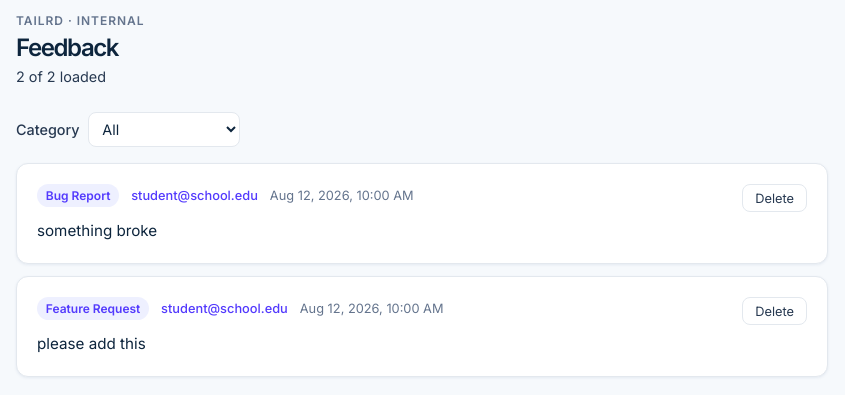
Test case: AdminFeedback › narrows to one category
Expected: the text "please add this" is shown, [37, 334, 146, 353]
Select "Bug Report" in the dropdown labelled "Category" at (164, 130), box [88, 112, 240, 147]
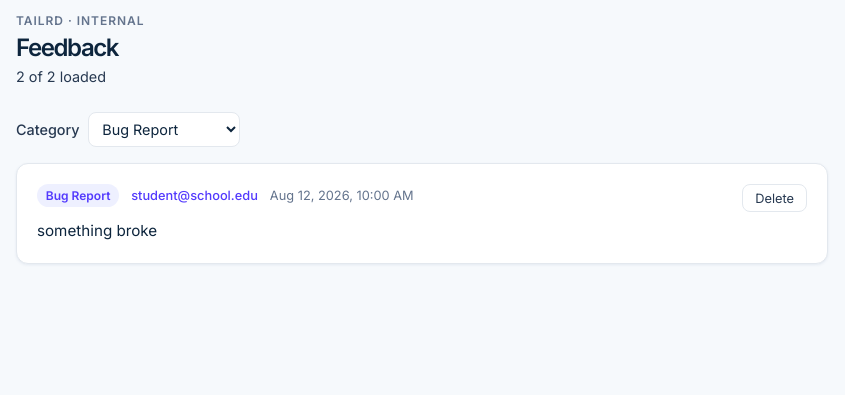
Expected: the text "something broke" is shown, [37, 221, 157, 240]
Now the text "please add this" is gone
